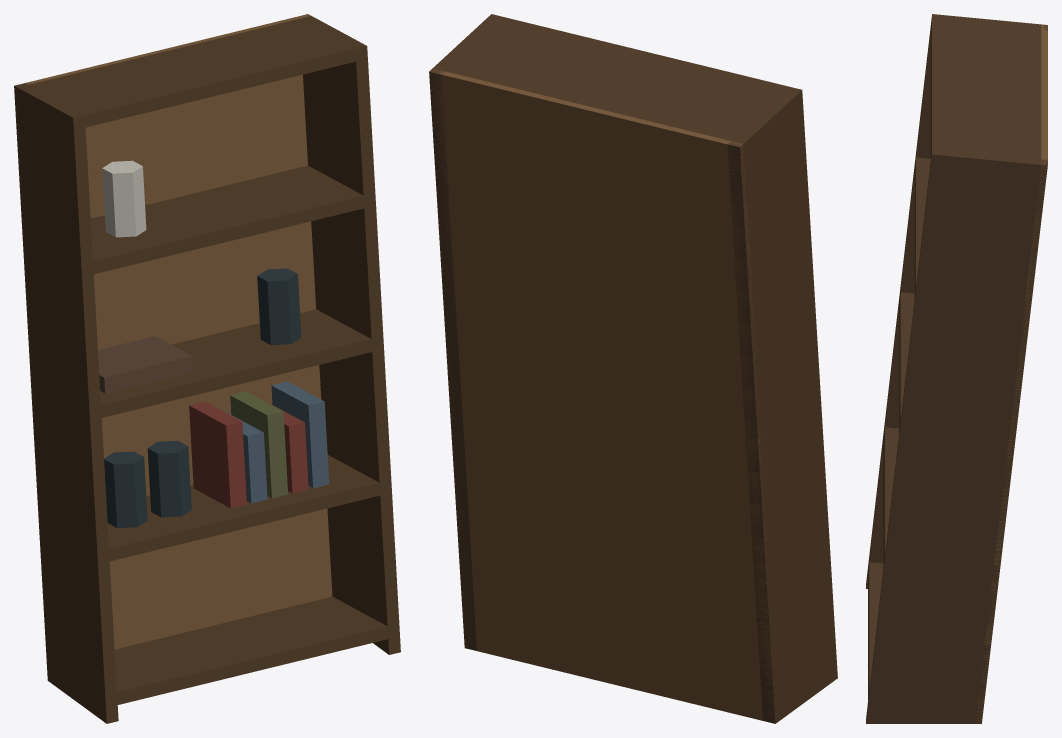
File: ruins_house_shelf.glb
3 renders of one model, left to right at view 1: azimuth 30°, elevation 25°; view 2: azimuth 150°, elevation 25°; view 3: azimuth 270°, elevation 25°, orthographic. The views are drawn at different scales.
Parts seen in each view (by area): view 1: ruins_house_shelf_mesh; view 2: ruins_house_shelf_mesh; view 3: ruins_house_shelf_mesh.
Part boxes in pixels (left/top/right/bottom): ruins_house_shelf_mesh: left=14, top=14, right=400, bottom=723; ruins_house_shelf_mesh: left=429, top=14, right=837, bottom=723; ruins_house_shelf_mesh: left=866, top=14, right=1047, bottom=723.
Size of the model in its own units: 1 by 1.89 by 0.5467.
